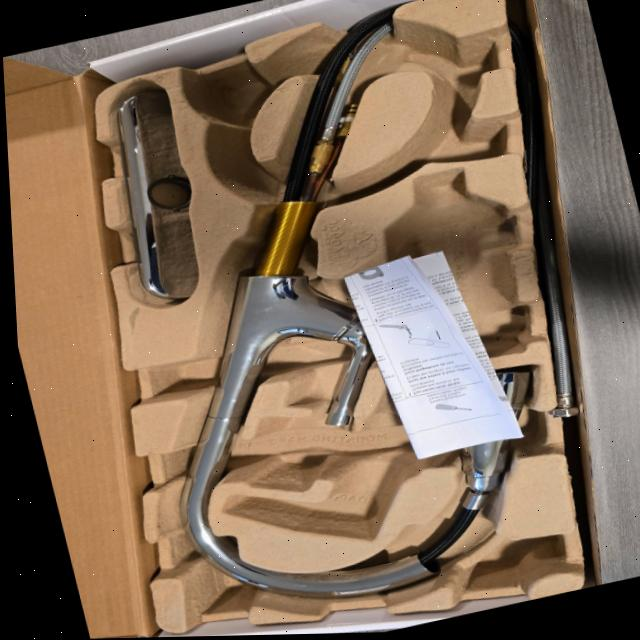1o: (177, 1, 534, 598)
2m: (219, 392, 433, 536)
3m: (383, 168, 529, 374)
4: (116, 90, 196, 298)
5m: (193, 62, 268, 123)
6m: (391, 29, 500, 91)
7m: (379, 104, 500, 177)
8: (340, 250, 522, 460)
